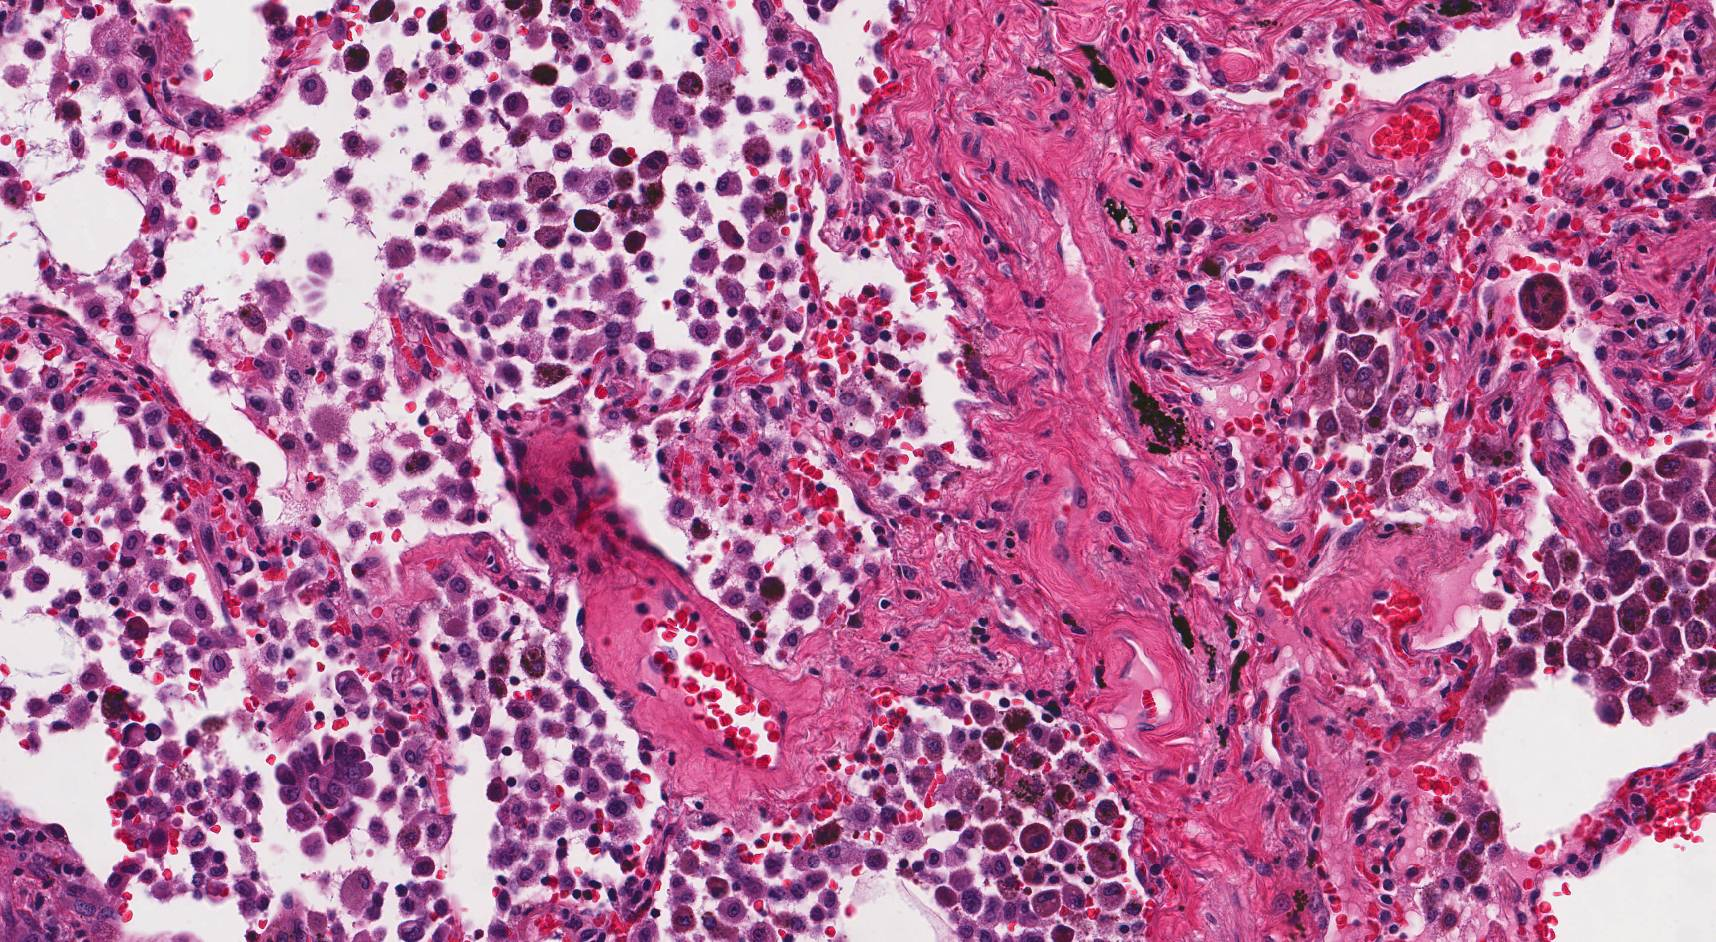stas: (274, 736, 376, 855)
